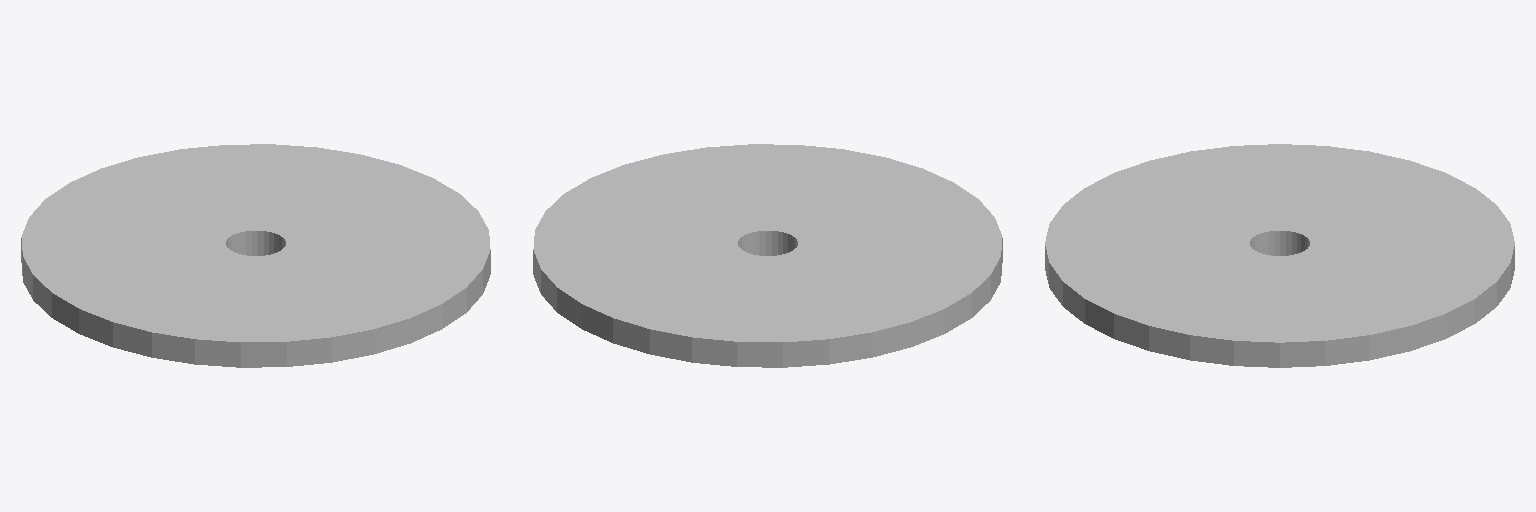
File: cricle.obj
3 renders of one model, left to right at view 1: azimuth 30°, elevation 25°; view 2: azimuth 150°, elevation 25°; view 3: azimuth 270°, elevation 25°, orthographic.
Parts seen in each view (by area): view 1: Circle_Circle.002; view 2: Circle_Circle.002; view 3: Circle_Circle.002.
Boxes of the visible parts, x1,y1,x2,y2 form: Circle_Circle.002: [21, 144, 490, 367]; Circle_Circle.002: [533, 144, 1002, 367]; Circle_Circle.002: [1045, 144, 1514, 367].
Bounding box in the file's own units: 80 × 4.75 × 80.